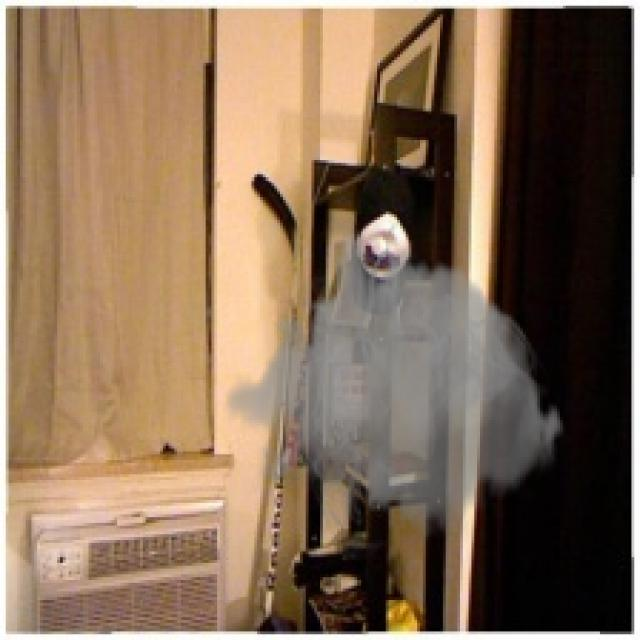Smoke: (223, 217, 566, 566)
